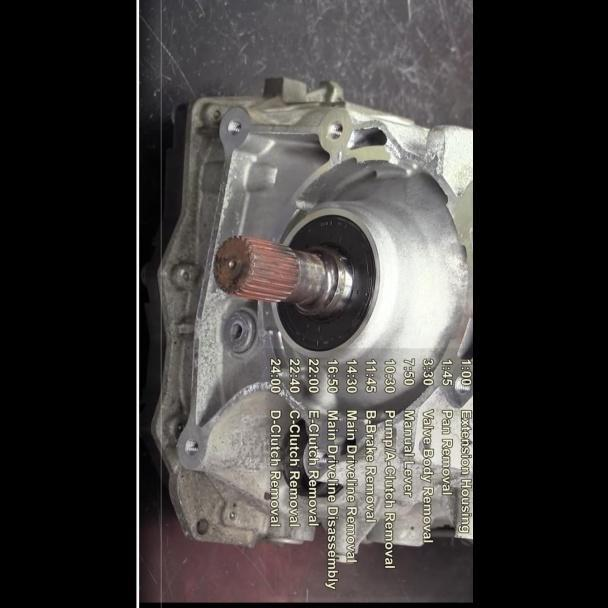hole: (326, 117, 345, 140), (182, 438, 199, 456), (226, 119, 241, 136)
